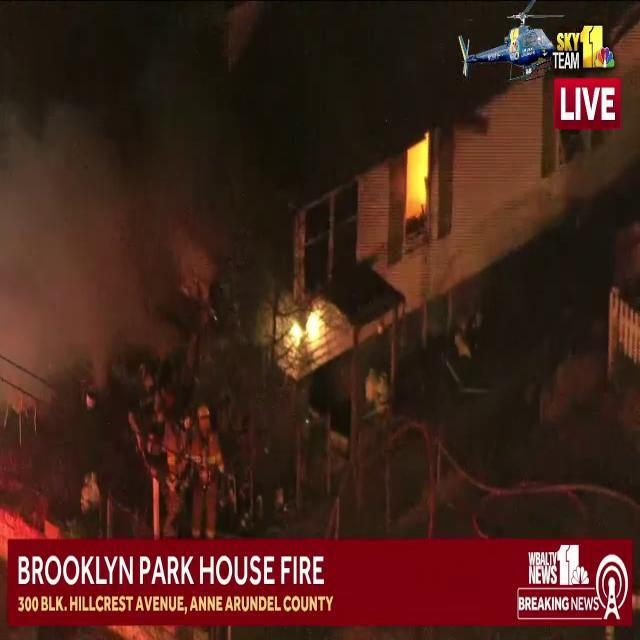Fire: (283, 294, 329, 360)
Smoke: (1, 0, 278, 427)
